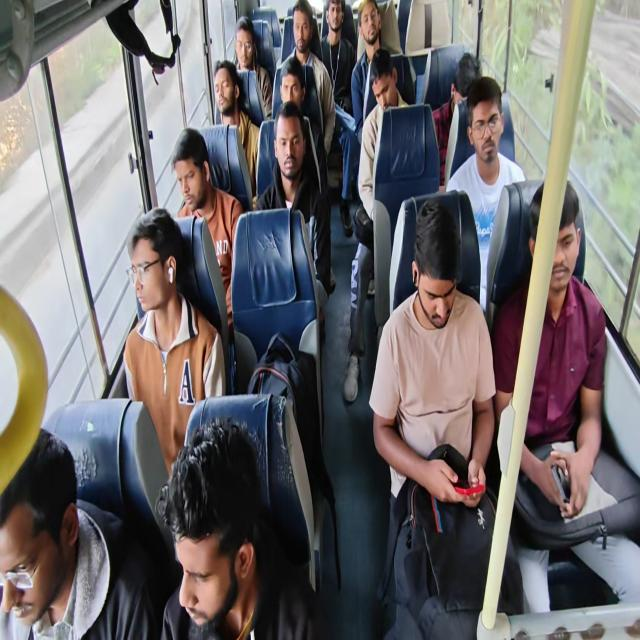person: (161, 412, 271, 640), (0, 428, 86, 627), (411, 186, 468, 343), (122, 214, 194, 323), (524, 192, 591, 306), (166, 127, 219, 217), (458, 71, 509, 158), (266, 106, 311, 185), (367, 44, 403, 110), (448, 48, 478, 114), (279, 52, 314, 107), (232, 11, 263, 64), (288, 0, 318, 53), (210, 63, 238, 114), (357, 0, 385, 42), (324, 0, 343, 35)
